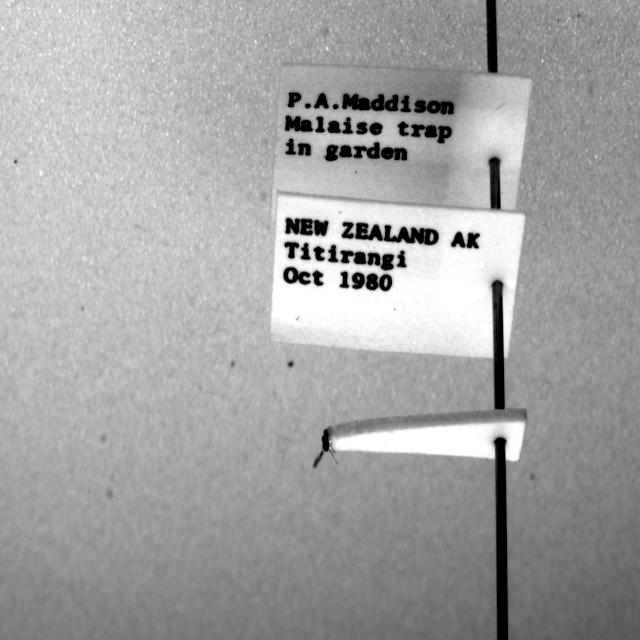typed_label: (271, 193, 525, 358), (271, 64, 531, 219)
